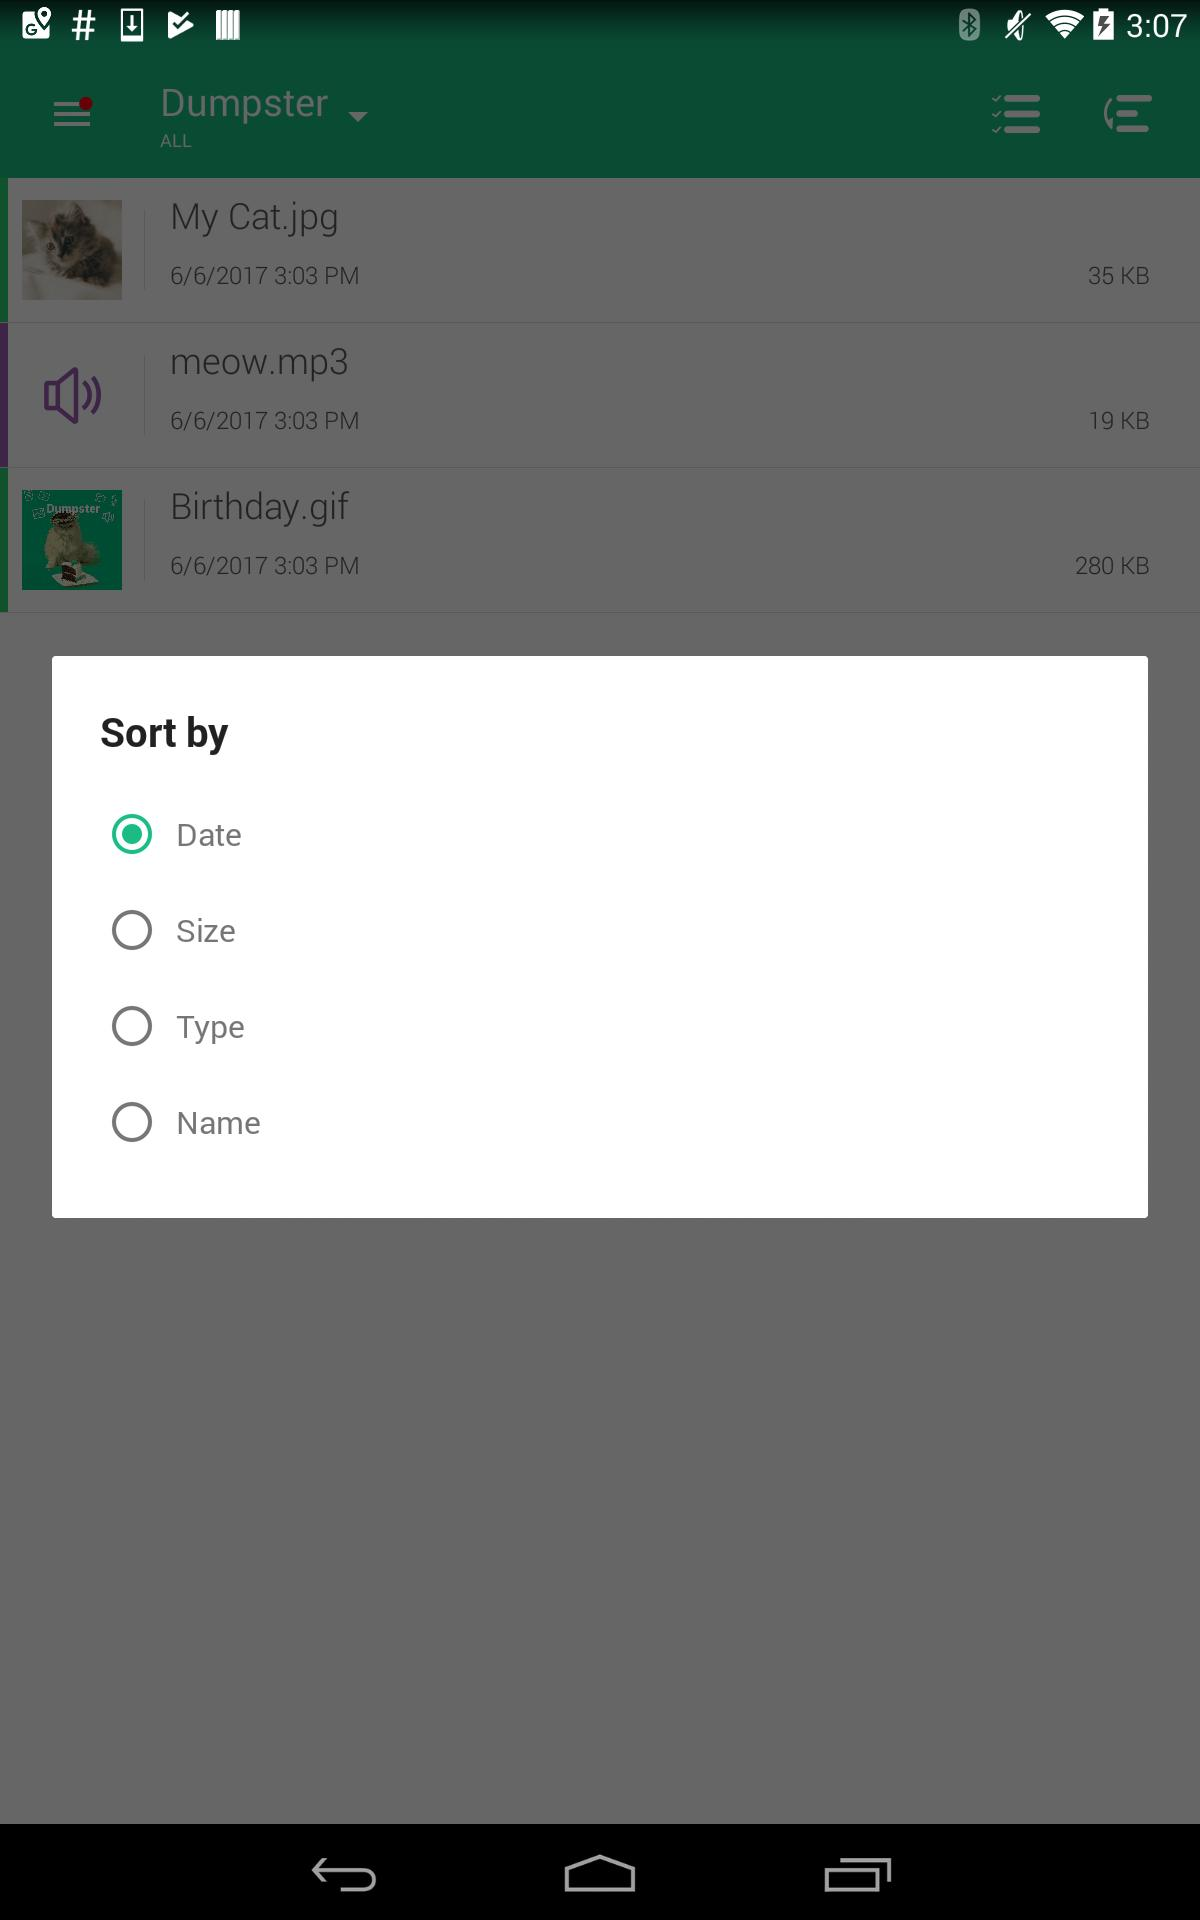android.support.v7.widget.RecyclerView: (53, 770, 1147, 1186)
android.view.View: (53, 657, 1147, 1218)
android.widget.FrameLayout: (19, 623, 1181, 1250), (53, 657, 1147, 1218), (53, 770, 1147, 1186)
android.widget.LinearLayout: (53, 657, 1147, 1218), (53, 770, 1147, 1186), (53, 657, 1147, 770), (53, 882, 1147, 979), (53, 787, 1147, 882), (53, 979, 1147, 1074), (53, 1074, 1147, 1169)
android.widget.RadioButton: (100, 882, 165, 979), (100, 787, 165, 882), (100, 979, 165, 1074), (100, 1074, 165, 1169)
android.widget.TextView: (100, 704, 1100, 757), (165, 1074, 263, 1169), (165, 979, 245, 1074), (165, 787, 243, 882), (165, 882, 236, 979)
